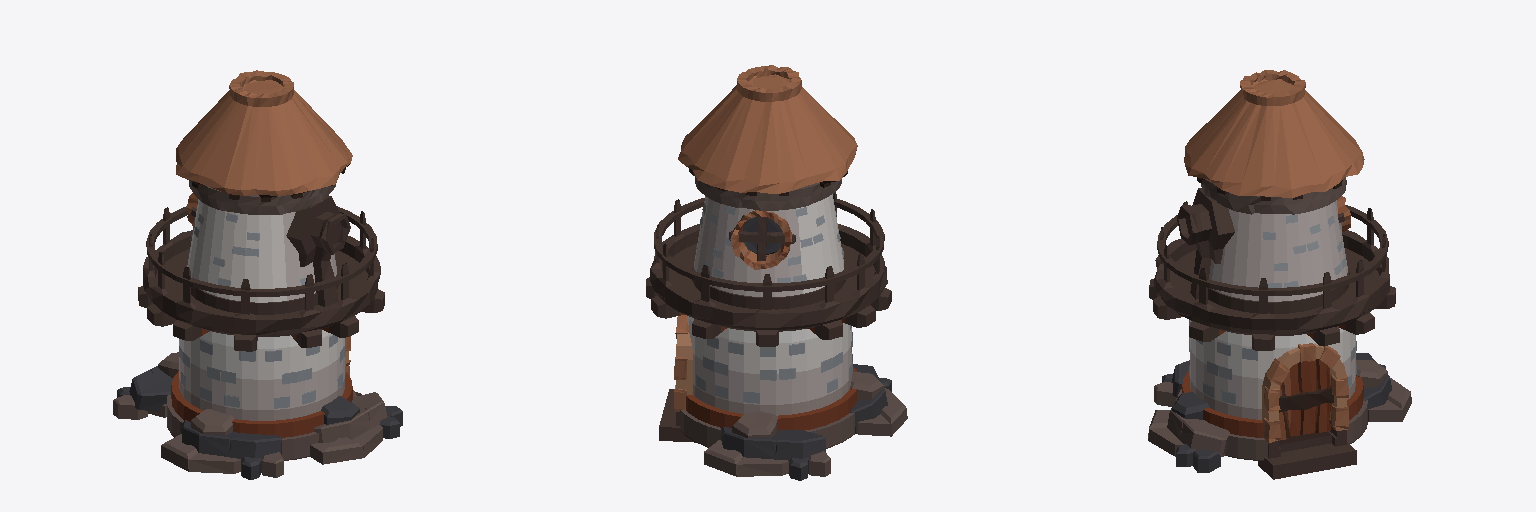
3 views of the same model, side by side, from view 1: azimuth 30°, elevation 25°; view 2: azimuth 150°, elevation 25°; view 3: azimuth 270°, elevation 25° (orthographic).
Visible parts, largest first — view 1: Object_30; view 2: Object_30; view 3: Object_30.
Boxes of the visible parts, x1=… form: Object_30: x1=113, y1=70, x2=402, y2=479; Object_30: x1=646, y1=65, x2=907, y2=480; Object_30: x1=1148, y1=70, x2=1411, y2=479.
Bounding box in the file's own units: 3.38 × 5.14 × 3.53.
1 materials, 1 textured.